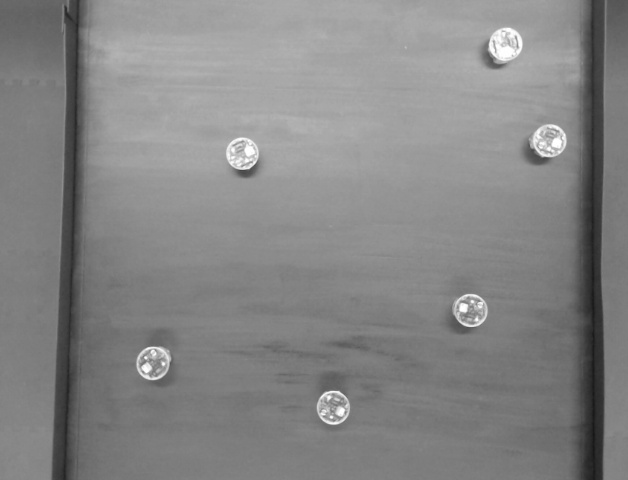epuck_2: (446, 285, 504, 338), (523, 113, 575, 171), (309, 386, 356, 433), (131, 337, 176, 385), (479, 26, 529, 68), (220, 130, 262, 175)
